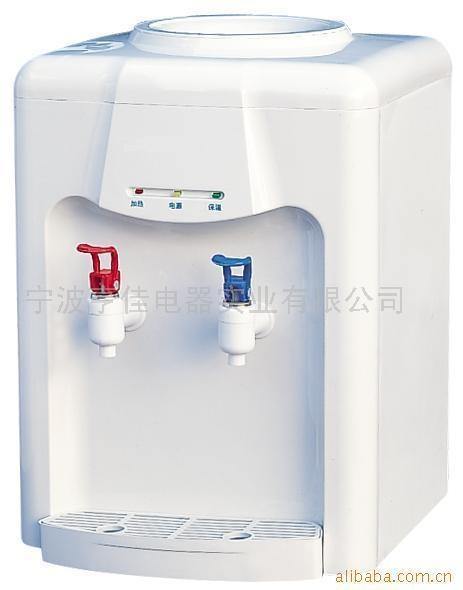Dispenser: (13, 13, 451, 580)
